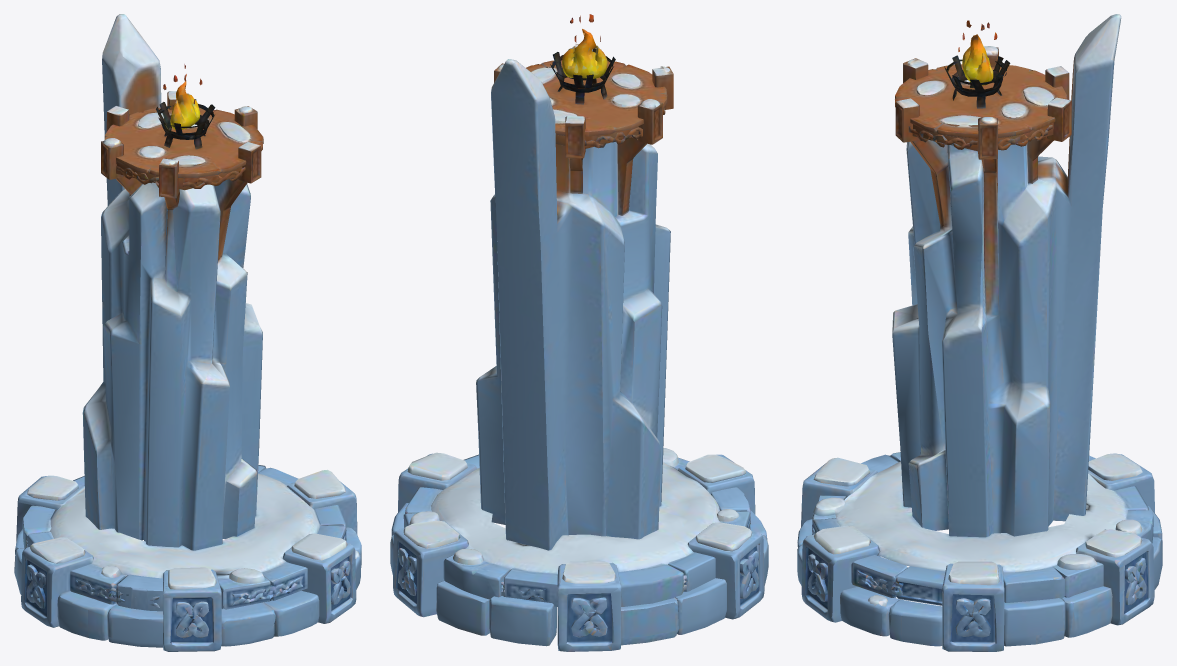
The model's file is tundra_torre.glb.
3 views of the same model, side by side, from view 1: azimuth 30°, elevation 25°; view 2: azimuth 150°, elevation 25°; view 3: azimuth 270°, elevation 25° (orthographic). The views are drawn at different scales.
Parts seen in each view (by area): view 1: tripo_node_106eddfb-7fdd-4f21-b56a-a1cd1e835b02; view 2: tripo_node_106eddfb-7fdd-4f21-b56a-a1cd1e835b02; view 3: tripo_node_106eddfb-7fdd-4f21-b56a-a1cd1e835b02.
Part boxes in pixels (x1,y1,x2,y2): tripo_node_106eddfb-7fdd-4f21-b56a-a1cd1e835b02: (14, 14, 361, 651); tripo_node_106eddfb-7fdd-4f21-b56a-a1cd1e835b02: (390, 14, 768, 651); tripo_node_106eddfb-7fdd-4f21-b56a-a1cd1e835b02: (797, 14, 1162, 651).
Size of the model in its own units: 0.6313 by 0.9995 by 0.5952.
Materials: 1 (1 with a texture image).
